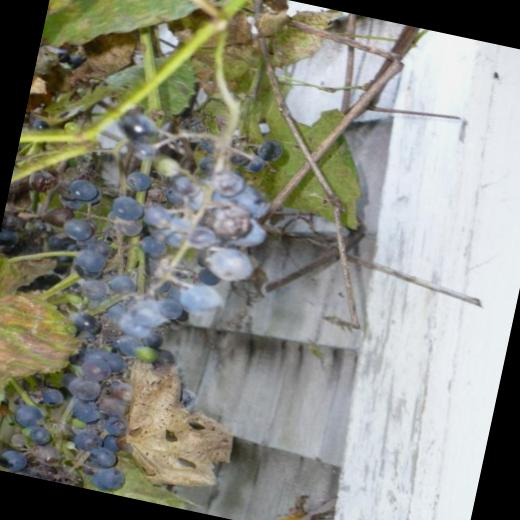Orange: (0, 76, 287, 514)
